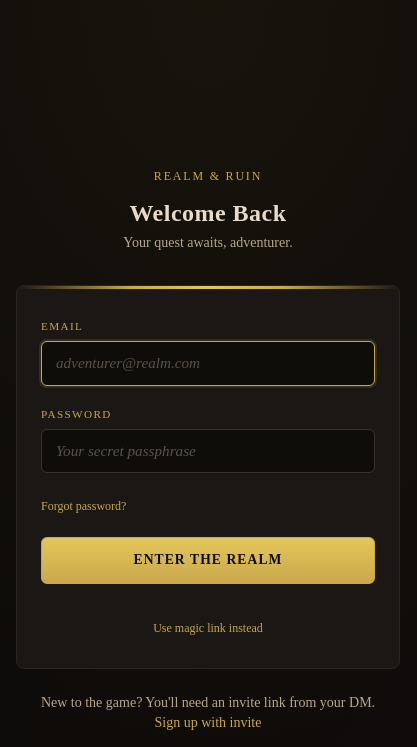
Scenario: LoginForm › magic link mode › shows success message after sending magic link
Click the button with test id "magic-link-toggle".
click(208, 628)  # box [153, 620, 263, 636]
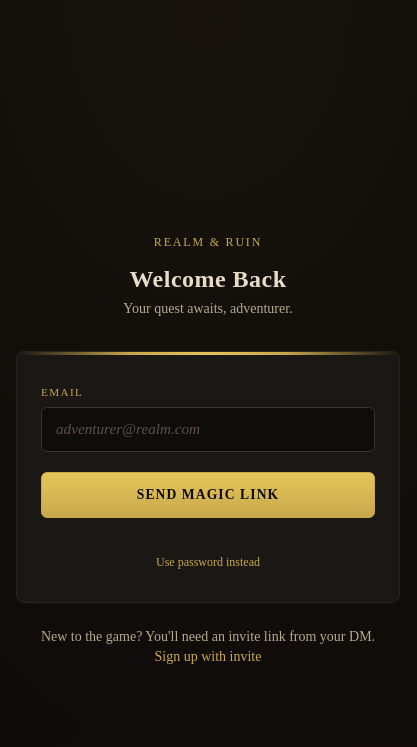
Type "hero@example.com" into the field with test id "magic-email-input".
click(208, 429); type("hero@example.com")  # box [41, 407, 375, 452]
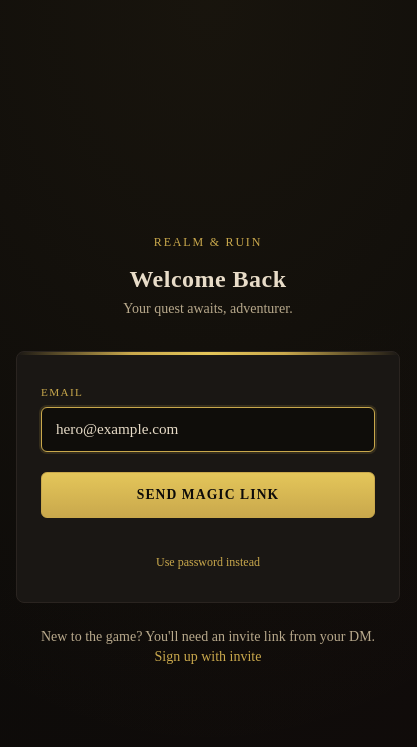
Click the button with test id "magic-link-submit".
click(208, 495)  # box [41, 472, 375, 518]
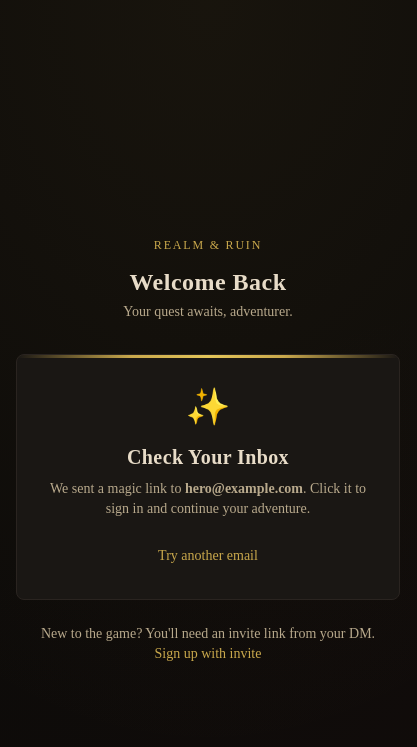
expect the element with test id "magic-link-success" is shown: met, box [41, 387, 375, 567]
expect the heading "Check Your Inbox" is shown: met, box [127, 446, 289, 468]
expect the text "hero@example.com" is shown: met, box [185, 481, 303, 496]
